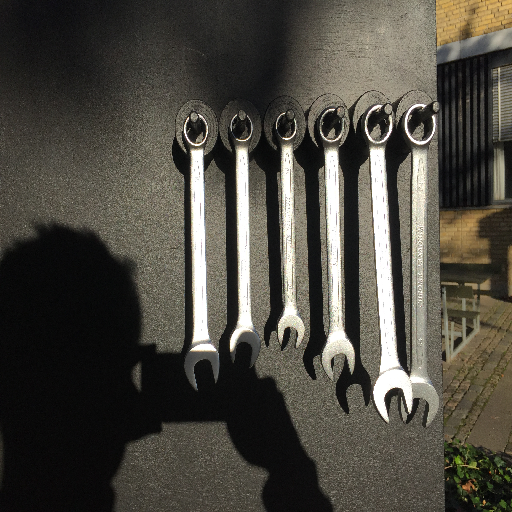bottom: (372, 370, 414, 424), (398, 375, 440, 429), (182, 342, 221, 393), (320, 334, 355, 381), (227, 324, 261, 369), (277, 311, 306, 351)
top: (400, 103, 438, 148), (362, 103, 393, 148), (314, 105, 347, 147), (181, 112, 210, 150), (273, 108, 299, 146), (228, 111, 255, 147)
